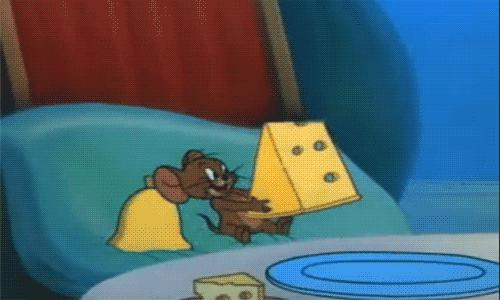jerry: (151, 147, 295, 244)
